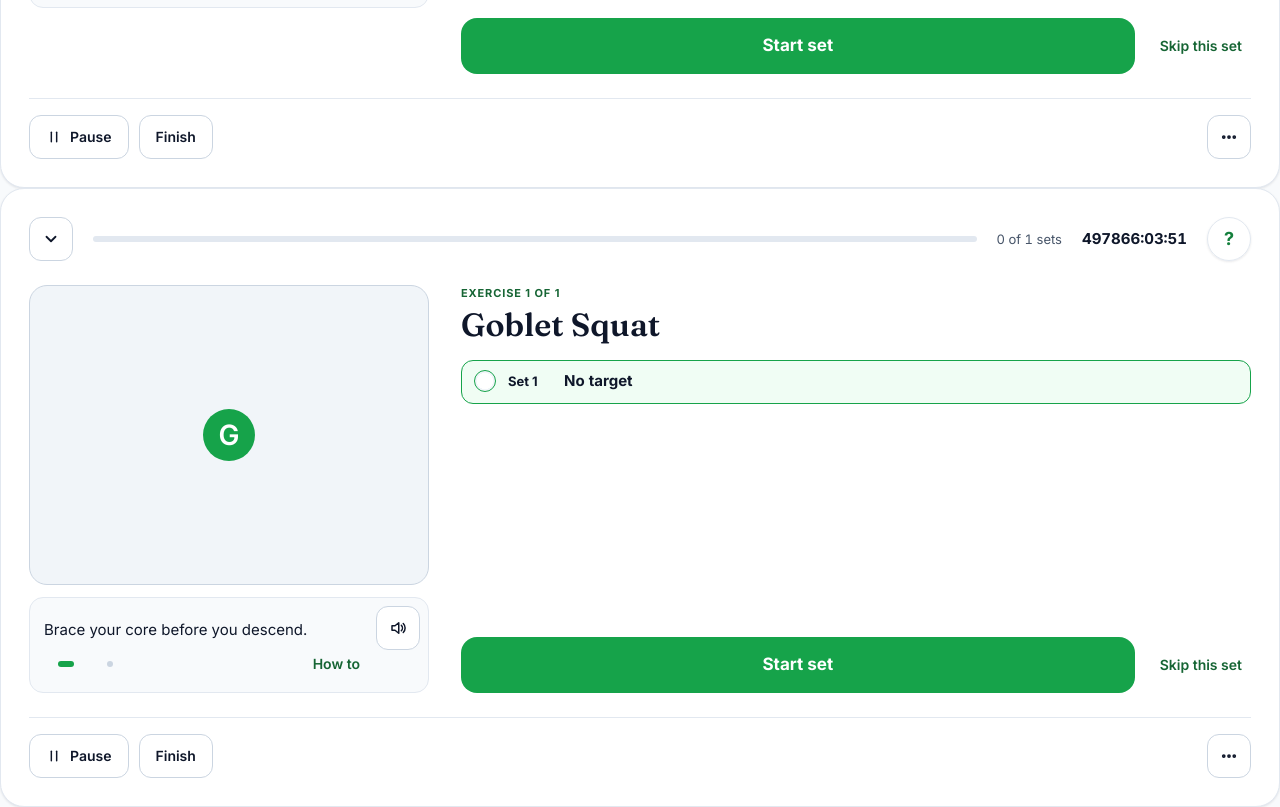
Test: ExercisePlayerComponent › a session started from a weekly plan › working through the sets › shows only a quiet set time while the set has no reps to count
This screenshot has width=1280, height=807.
(page scrolled)
Click the button with class "start-set" below "No target" at [798, 665], box [461,637,1135,693]
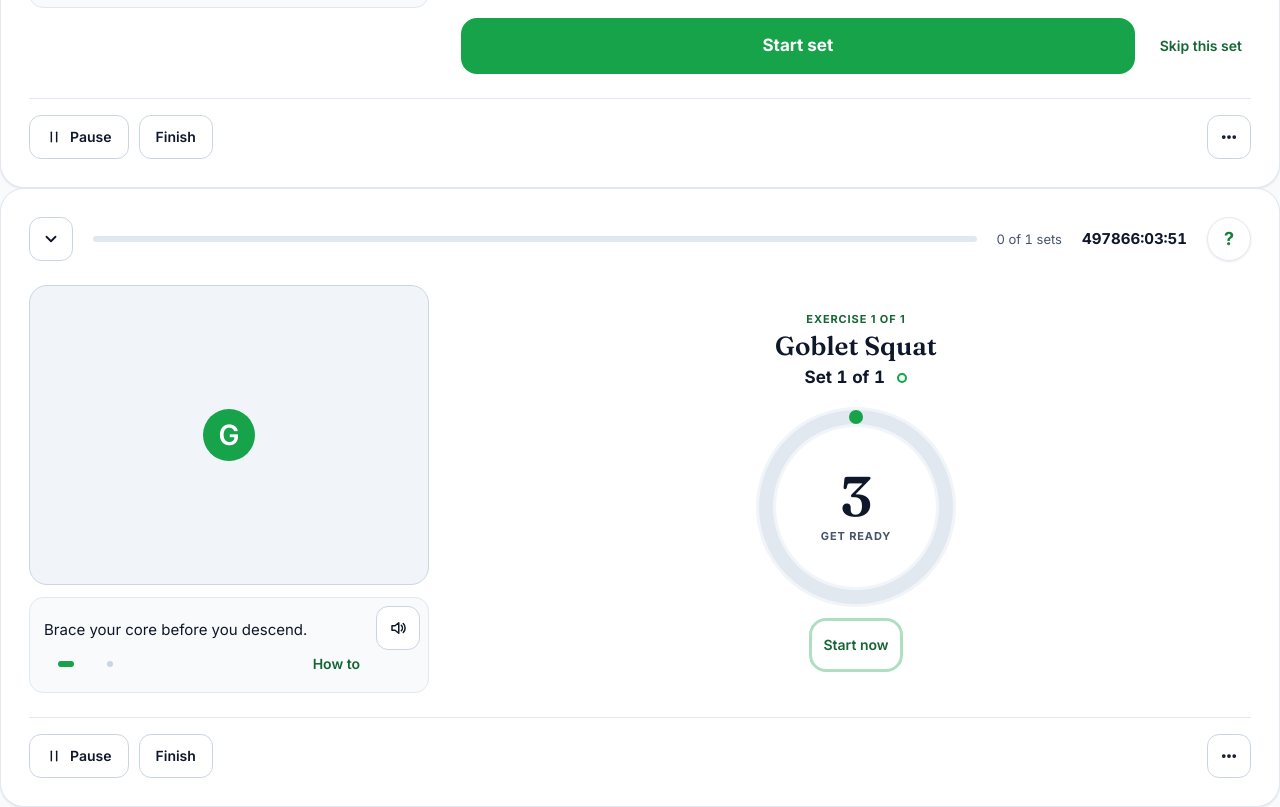
Click the button "Start now" at [856, 645], box [814,623,898,667]
Wait 5000 ms
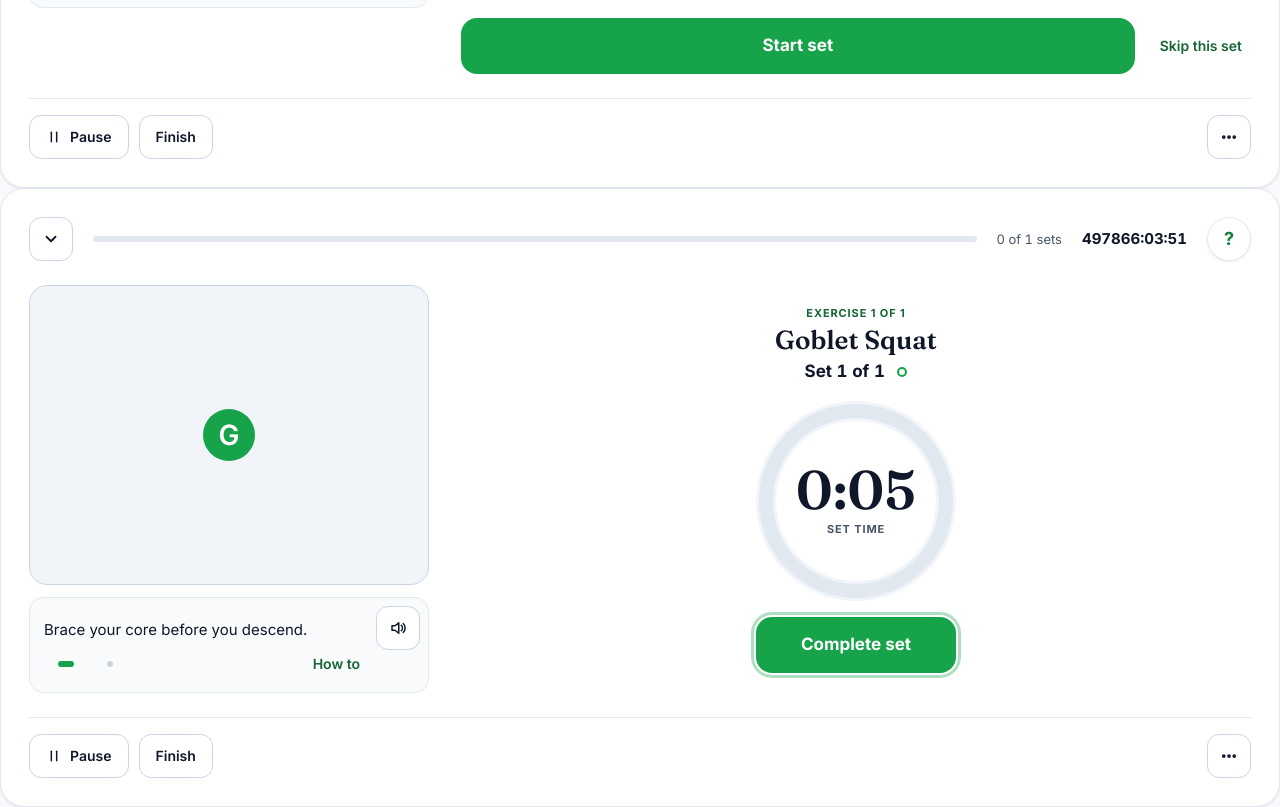
Now the text with class "caption" reads "Set time", box [827,522,885,536]
